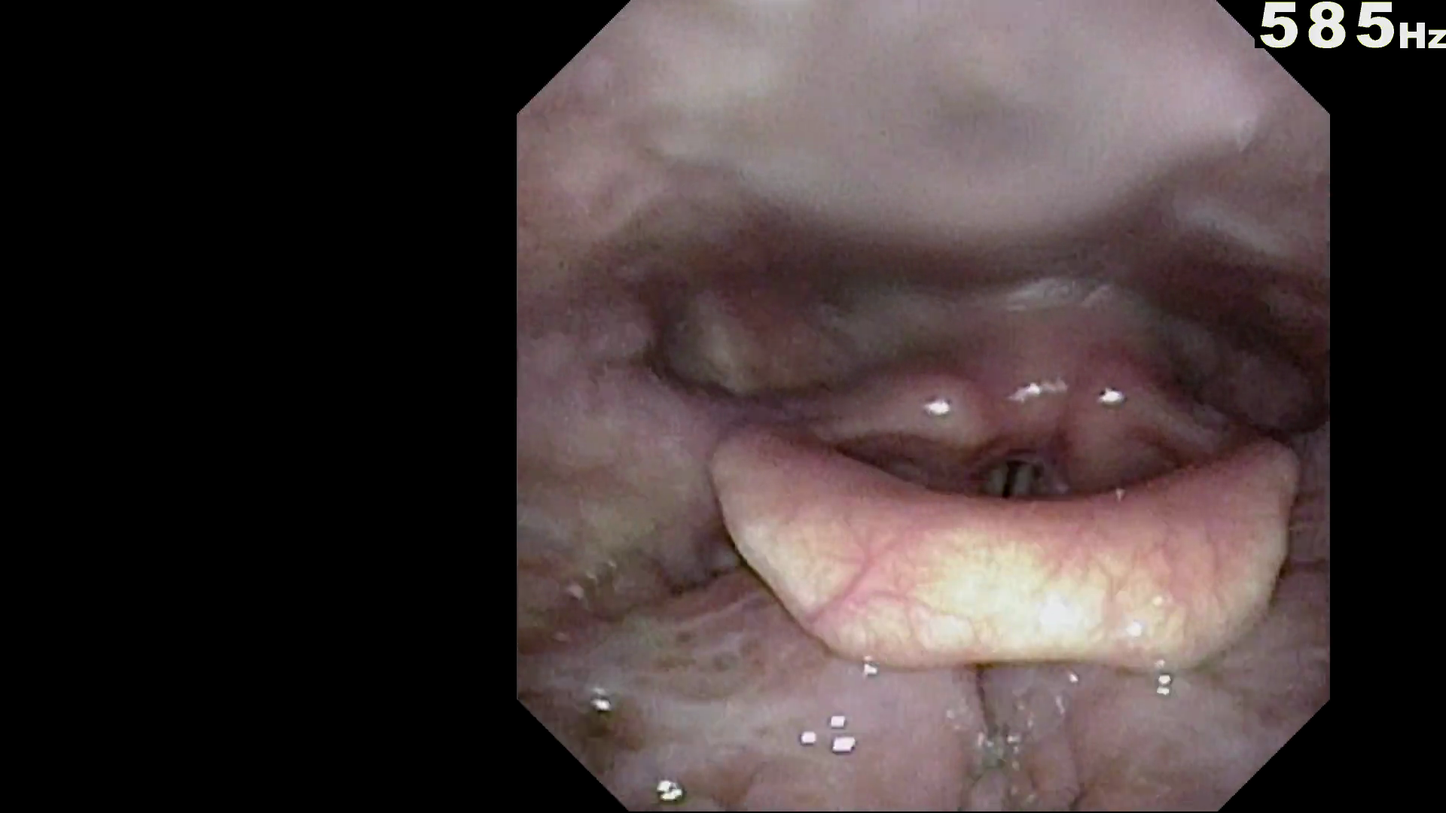epiglottis: (689, 401, 1310, 670)
trachea: (970, 425, 1061, 524)
